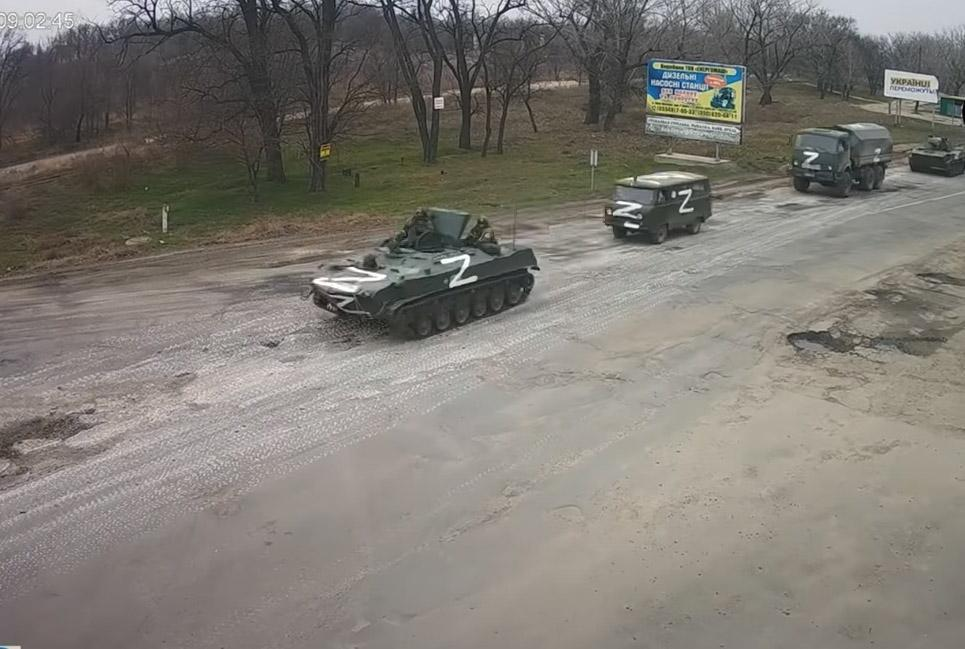car: (599, 175, 718, 241)
tank: (308, 207, 556, 340), (911, 132, 965, 185)
truck: (788, 125, 895, 204)
